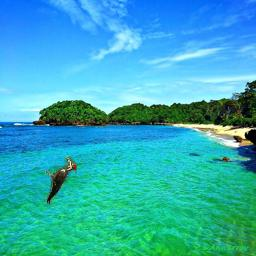Woodpecker: (44, 156, 77, 205)
